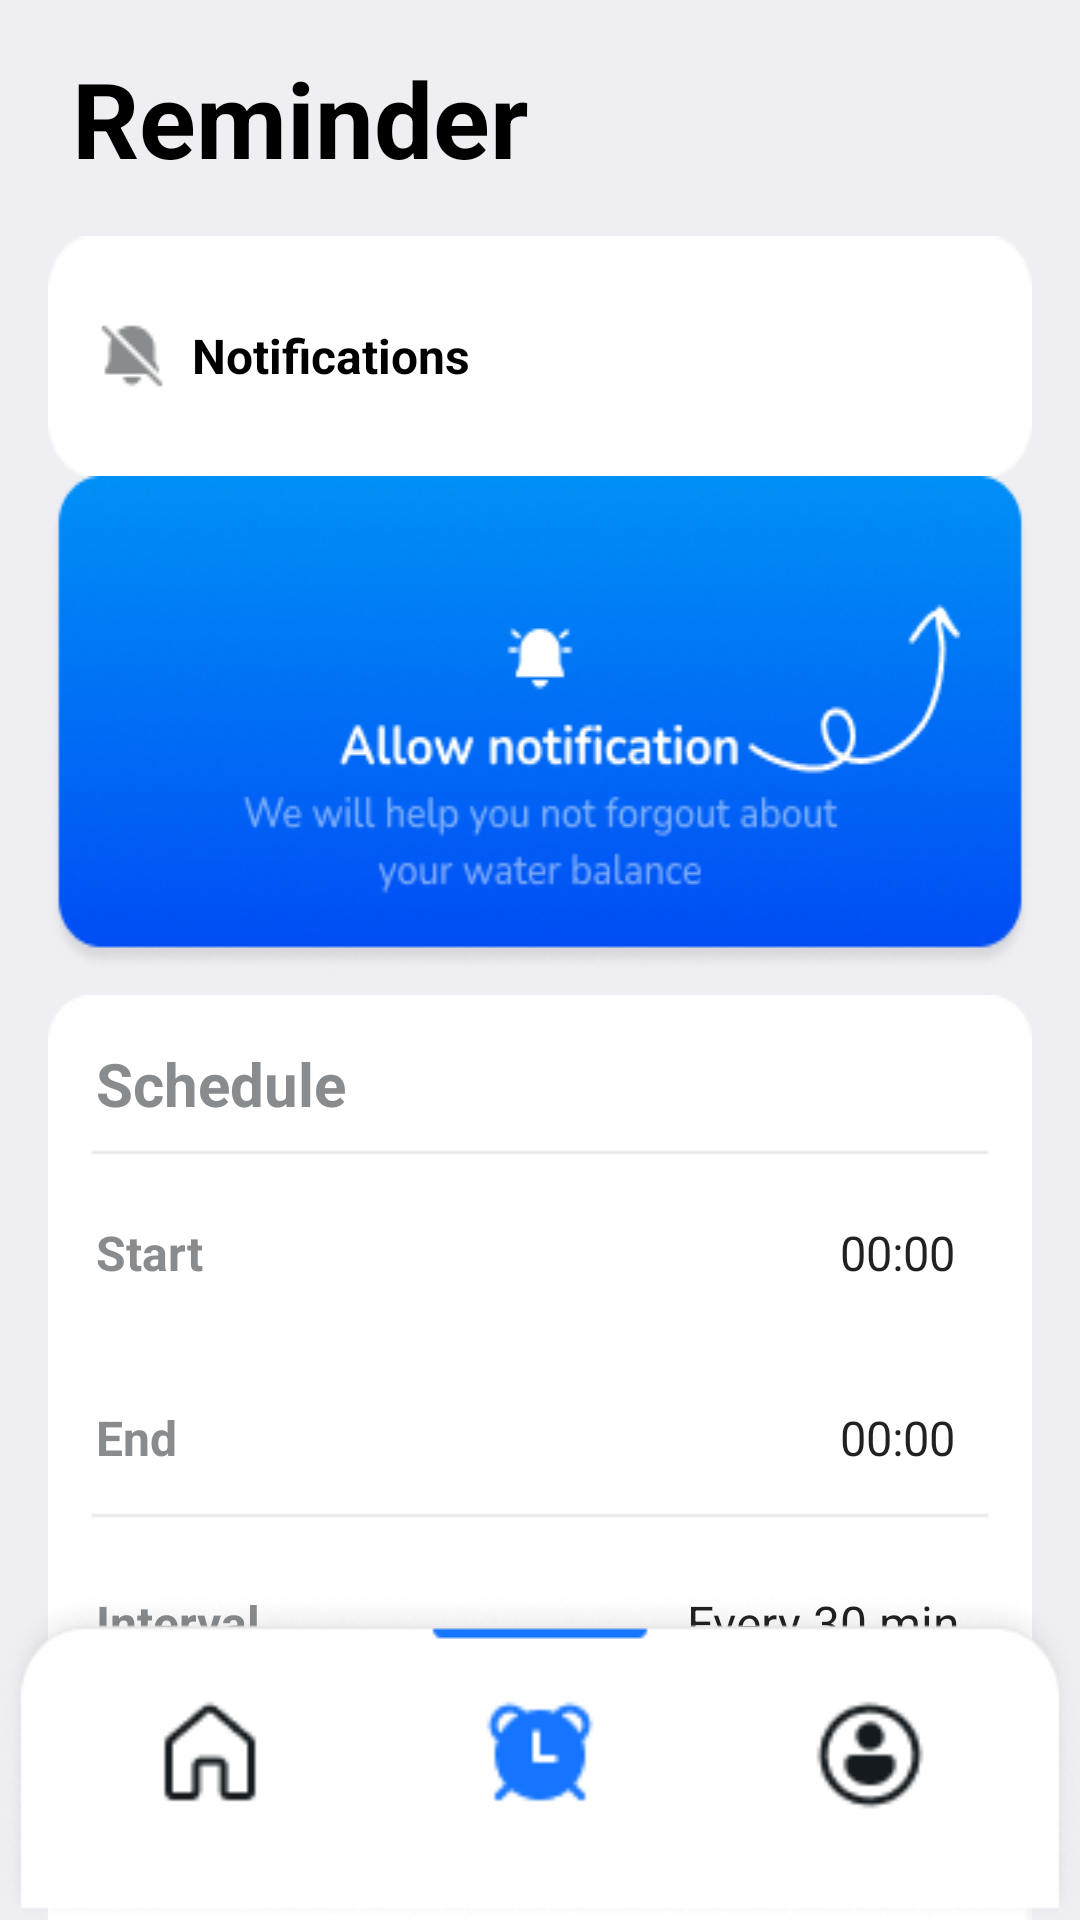

Where icons sit on this 1080x1920 app screen, as (x1, y1, x2, y2):
alert off: (101, 325, 163, 387)
clock: (487, 1702, 593, 1801)
home: (164, 1702, 256, 1801)
user: (817, 1702, 923, 1808)
